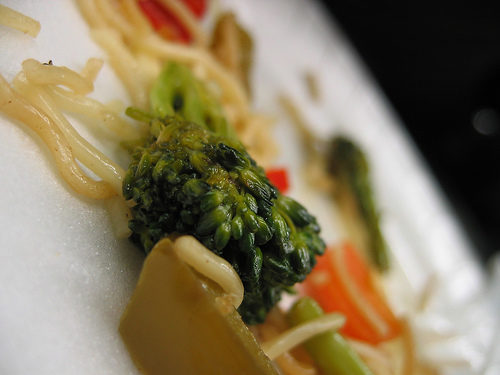broccoli: (121, 102, 327, 327)
